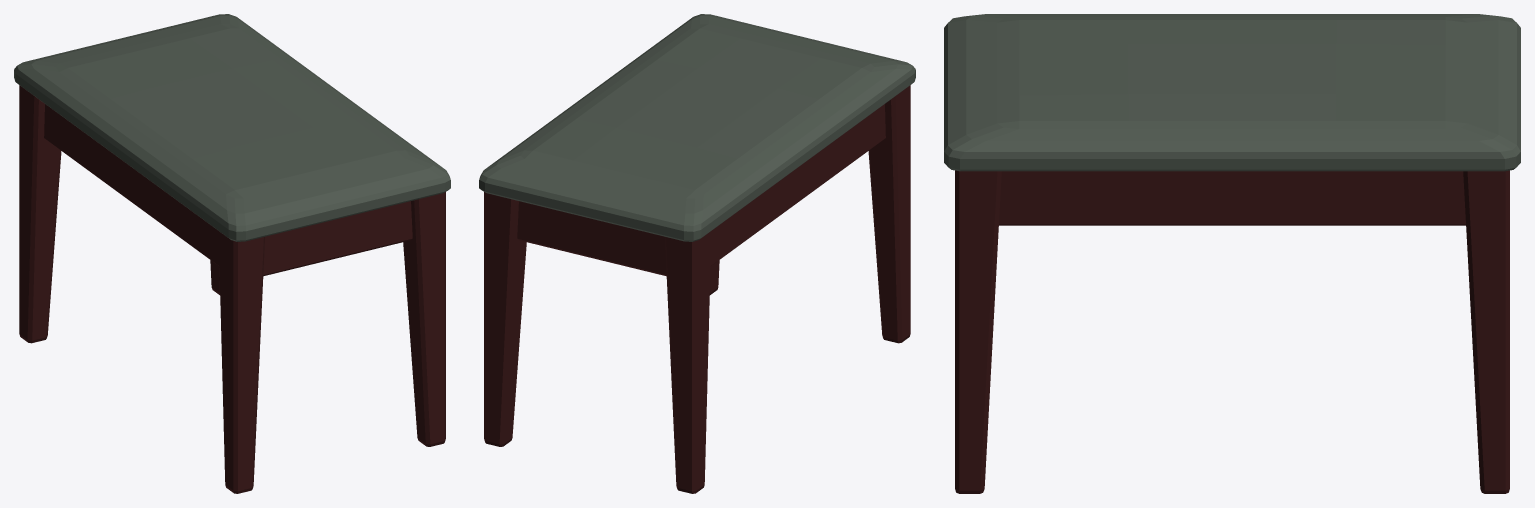
The model's file is chair.glb.
3 renders of one model, left to right at view 1: azimuth 30°, elevation 25°; view 2: azimuth 150°, elevation 25°; view 3: azimuth 270°, elevation 25°, orthographic. The views are drawn at different scales.
Parts seen in each view (by area): view 1: seat, legs, panels; view 2: seat, legs, panels; view 3: seat, panels, legs.
Boxes of the visible parts, <box> form: seat: <box>14,14,450,241</box>; legs: <box>19,85,445,493</box>; panels: <box>44,104,412,276</box>; seat: <box>479,14,915,241</box>; legs: <box>484,85,910,493</box>; panels: <box>517,104,885,276</box>; seat: <box>944,14,1520,171</box>; panels: <box>999,171,1465,225</box>; legs: <box>955,170,1509,493</box>.
Size of the model in its own units: 5.6 by 6.83 by 9.93.
